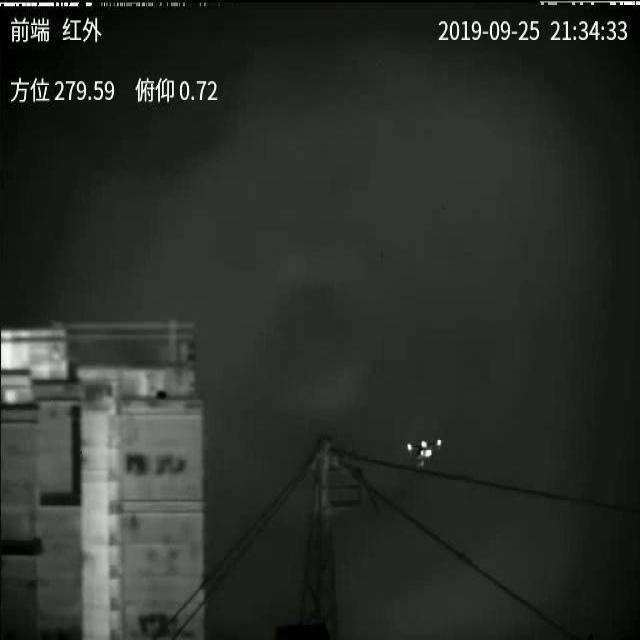drone: (405, 439, 444, 467)
